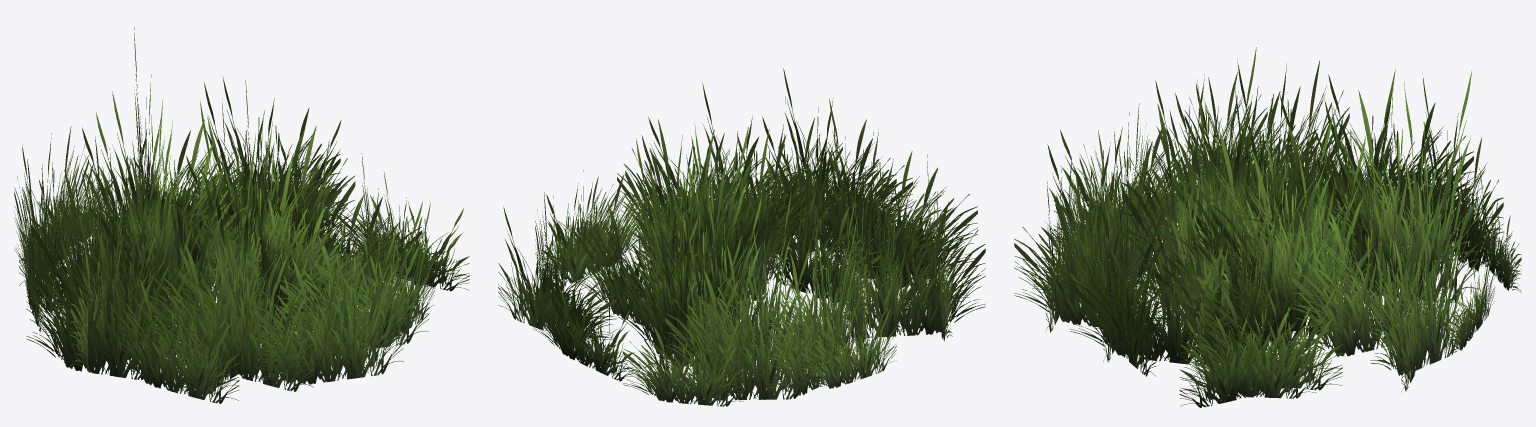
3 renders of one model, left to right at view 1: azimuth 30°, elevation 25°; view 2: azimuth 150°, elevation 25°; view 3: azimuth 270°, elevation 25°, orthographic. The views are drawn at different scales.
Visible parts, largest first — view 1: Grass; view 2: Grass; view 3: Grass.
Boxes of the visible parts, x1=… form: Grass: x1=14, y1=27, x2=469, y2=403; Grass: x1=498, y1=68, x2=985, y2=406; Grass: x1=1014, y1=47, x2=1521, y2=407.
Size of the model in its own units: 1.87 by 1.05 by 1.89.
Materials: 1 (1 with a texture image).
